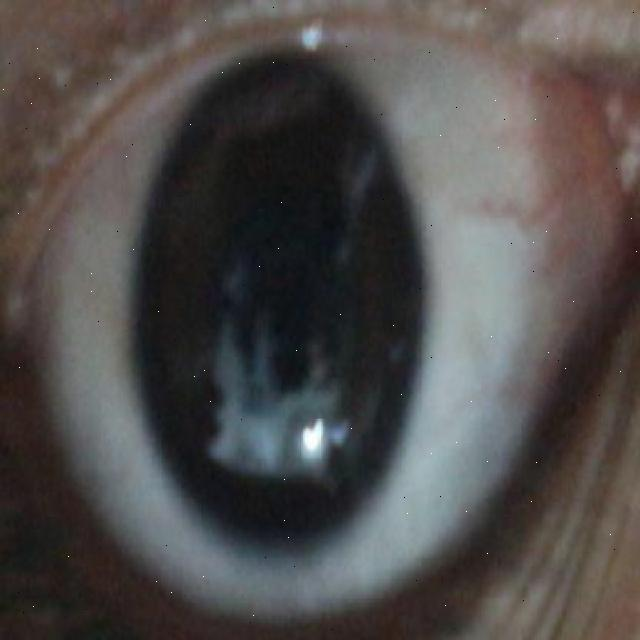Normal: (132, 49, 426, 550)
